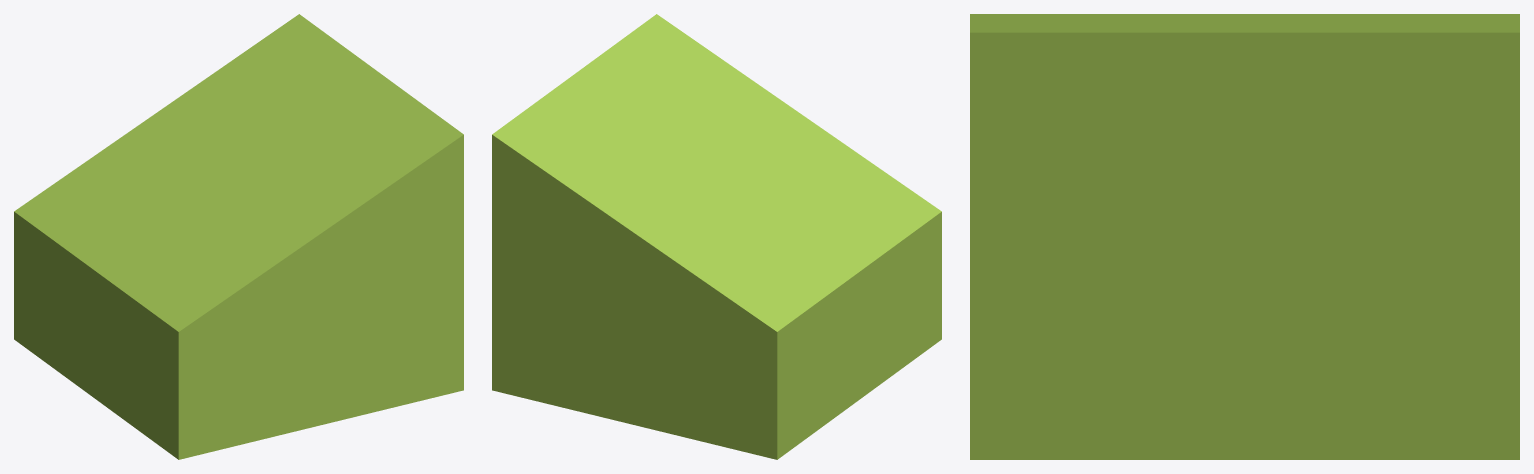
The model's file is NewSlopeasset.fbx.
3 renders of one model, left to right at view 1: azimuth 30°, elevation 25°; view 2: azimuth 150°, elevation 25°; view 3: azimuth 270°, elevation 25°, orthographic. The views are drawn at different scales.
Parts seen in each view (by area): view 1: PathUpwards; view 2: PathUpwards; view 3: PathUpwards.
Part boxes in pixels (x1,y1,x2,y2): PathUpwards: (14, 14, 463, 459); PathUpwards: (492, 14, 941, 459); PathUpwards: (970, 14, 1519, 459).
Size of the model in its own units: 276 by 237 by 276.
